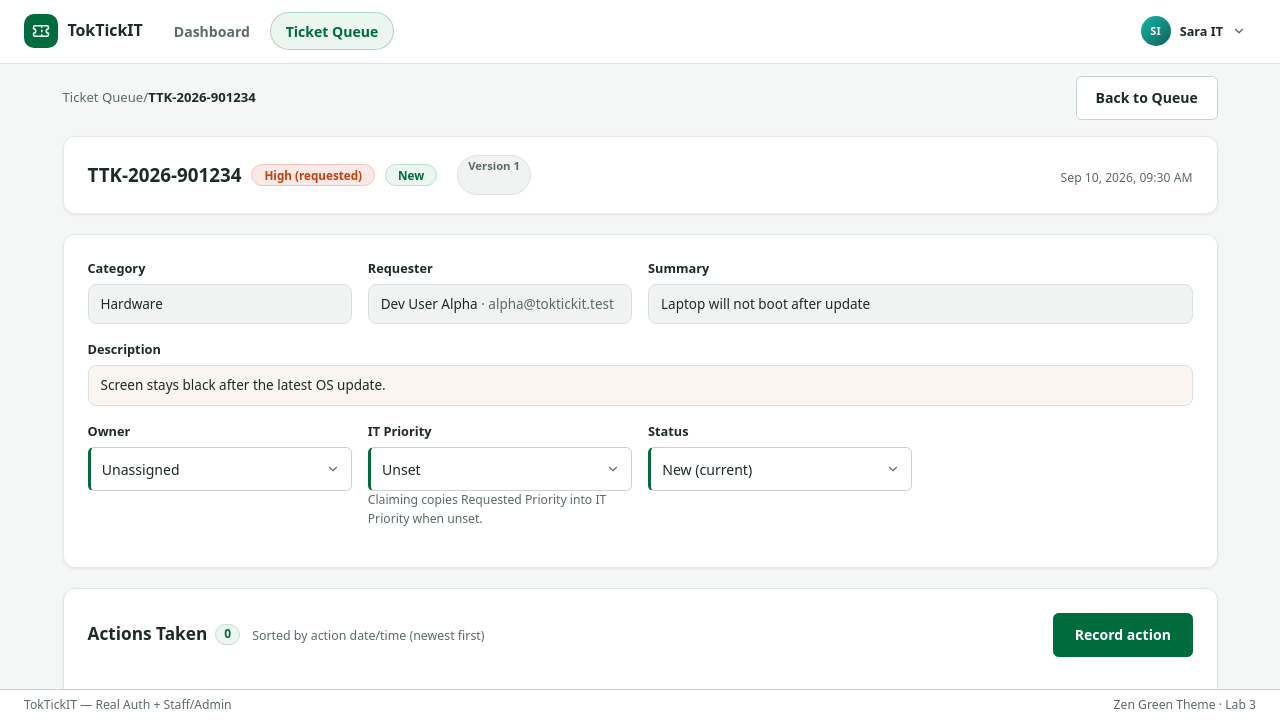
Test: T-DETAIL-01 — field grouping and read-only enforcement (ui-spec §7.1) › shows the Save/Discard bar only after an edit and discards revert it
This screenshot has width=1280, height=720.
Select "Tom IT" in the dropdown labelled "Owner" at (220, 469), box top-left (88, 447), bottom-right (352, 491)
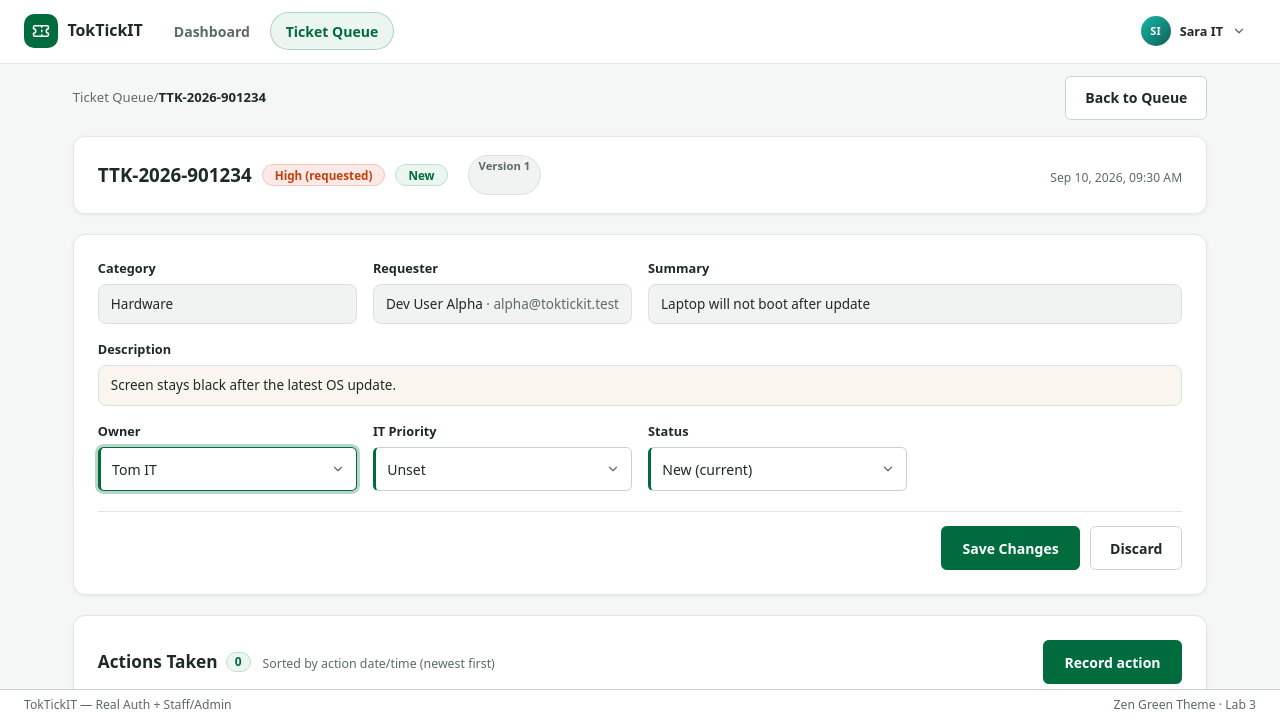
Expected: the button "Save Changes" is shown, top-left (941, 526), bottom-right (1080, 570)
Click the button "Discard" at (1136, 548), box top-left (1090, 526), bottom-right (1182, 570)
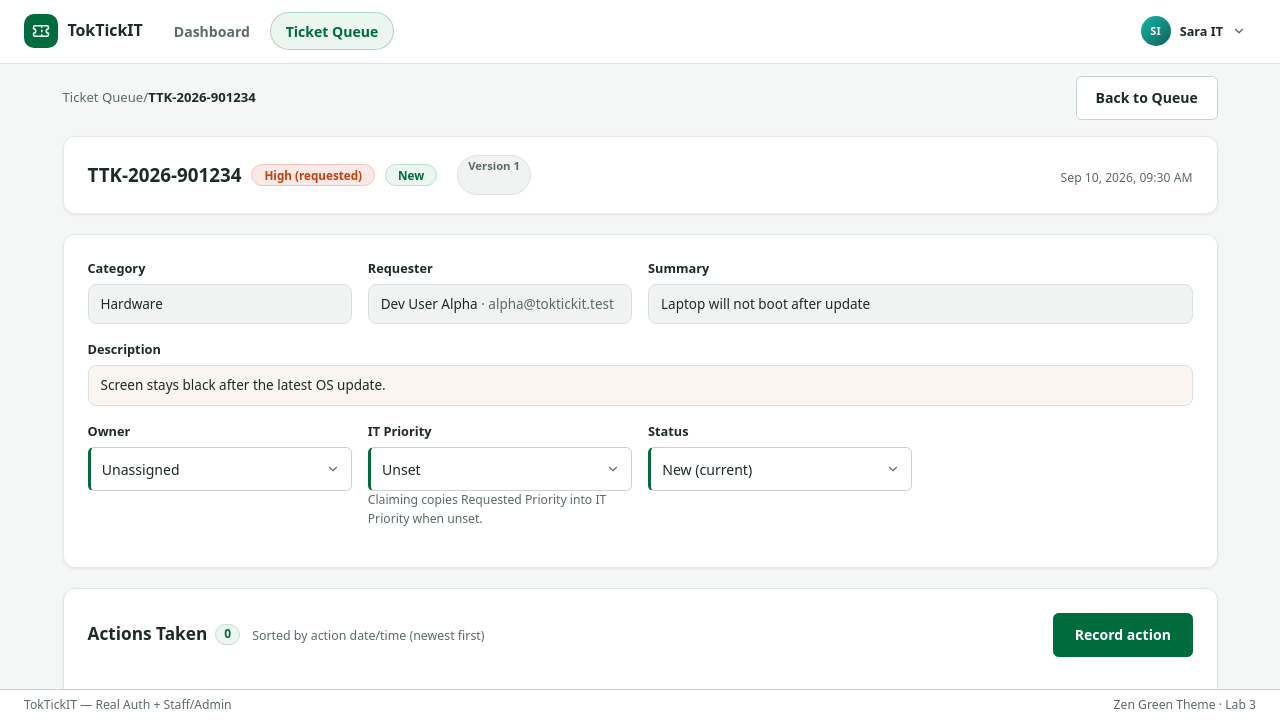
Expected: the button "Save Changes" is gone
